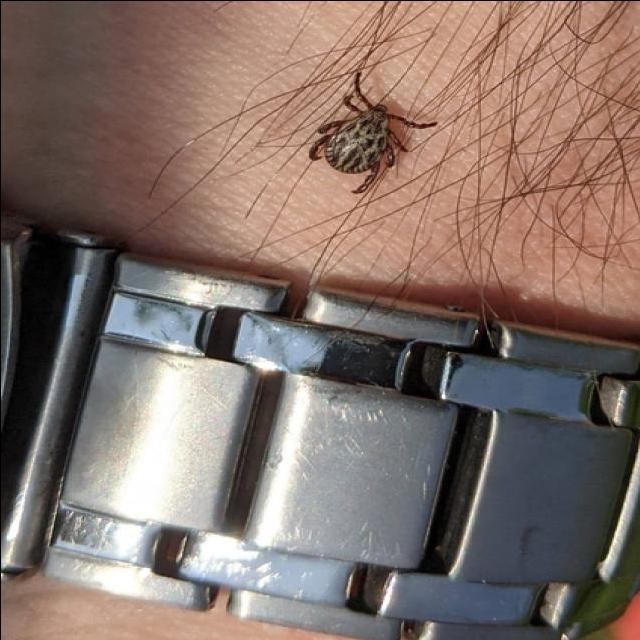Dermacentor Reticulatus-M: (308, 65, 441, 193)
